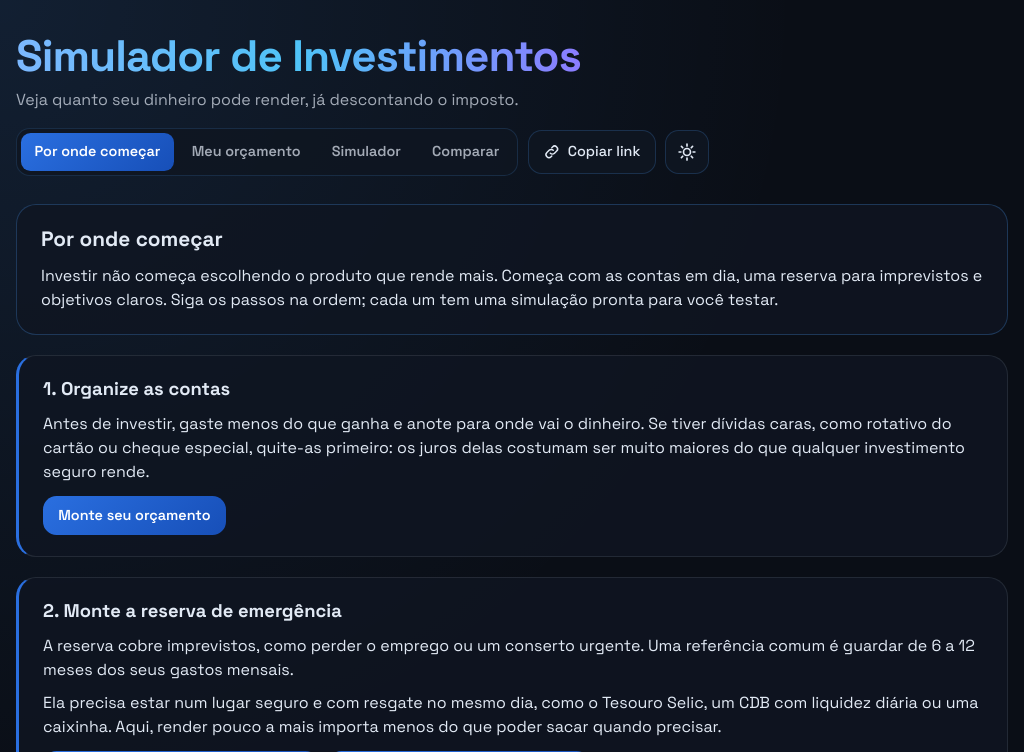
Scenario: o guia leva ao orçamento
Click the link "Monte seu orçamento" at (134, 515), box 43,496 -> 226,535
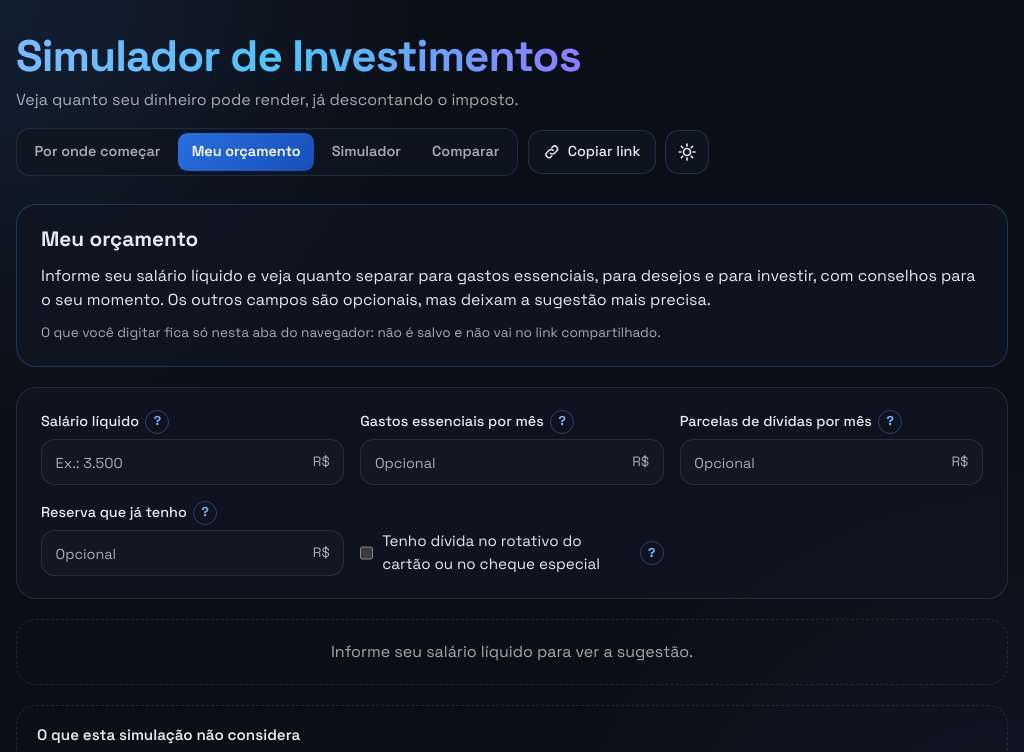
Result: the heading "Meu orçamento" is shown at 41,226 -> 198,252
